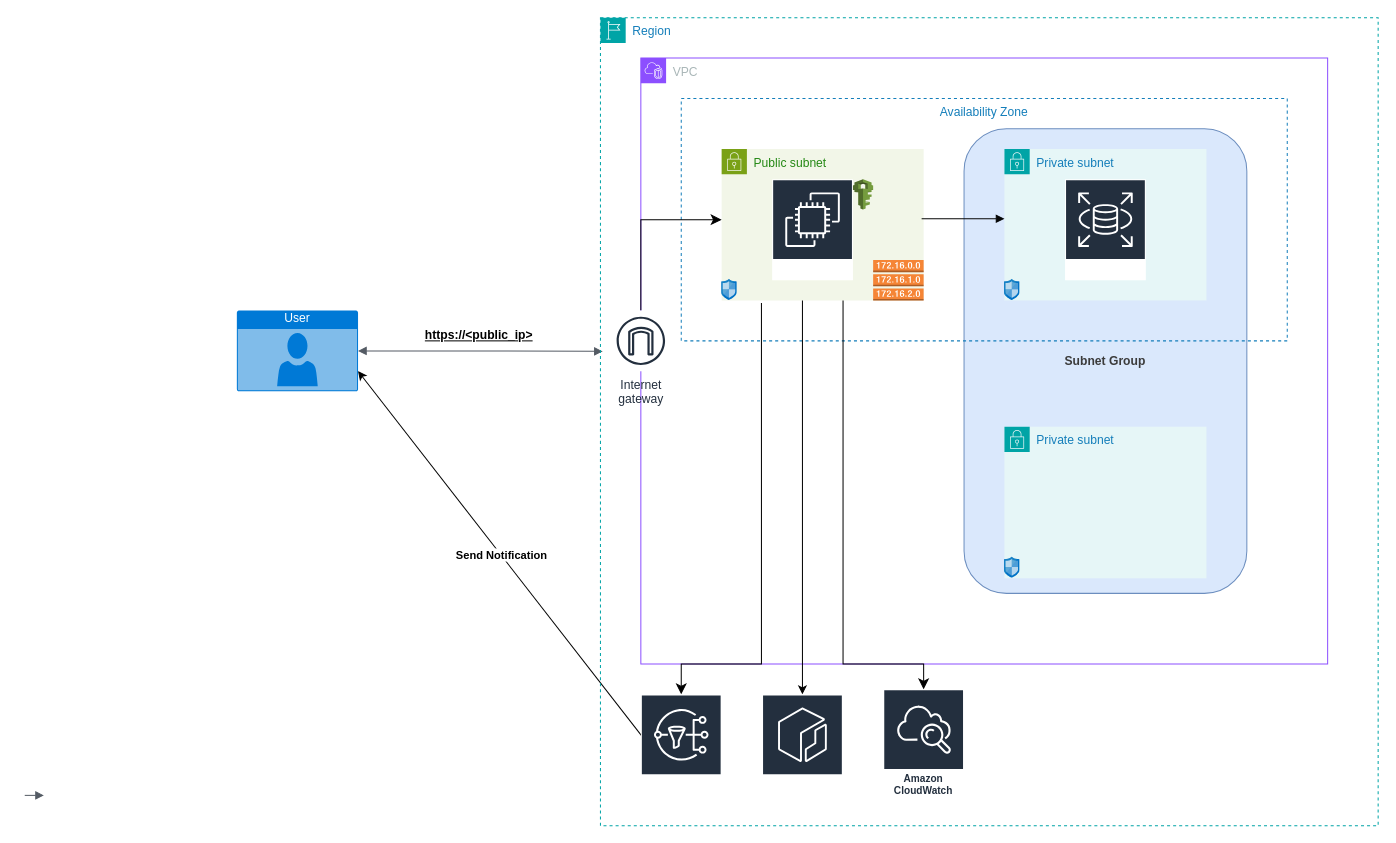
Some shapes in this 1396 by 843 pixel diagram are drawn without their labels. The shapes that lost their labels are listed below. From the top down, each one's centre as x and y in pixels, then its label:
[812,229]: Amazon EC2
[1105,229]: Amazon RDS
[681,744]: Amazon SNS
[802,744]: Amazon ECR
